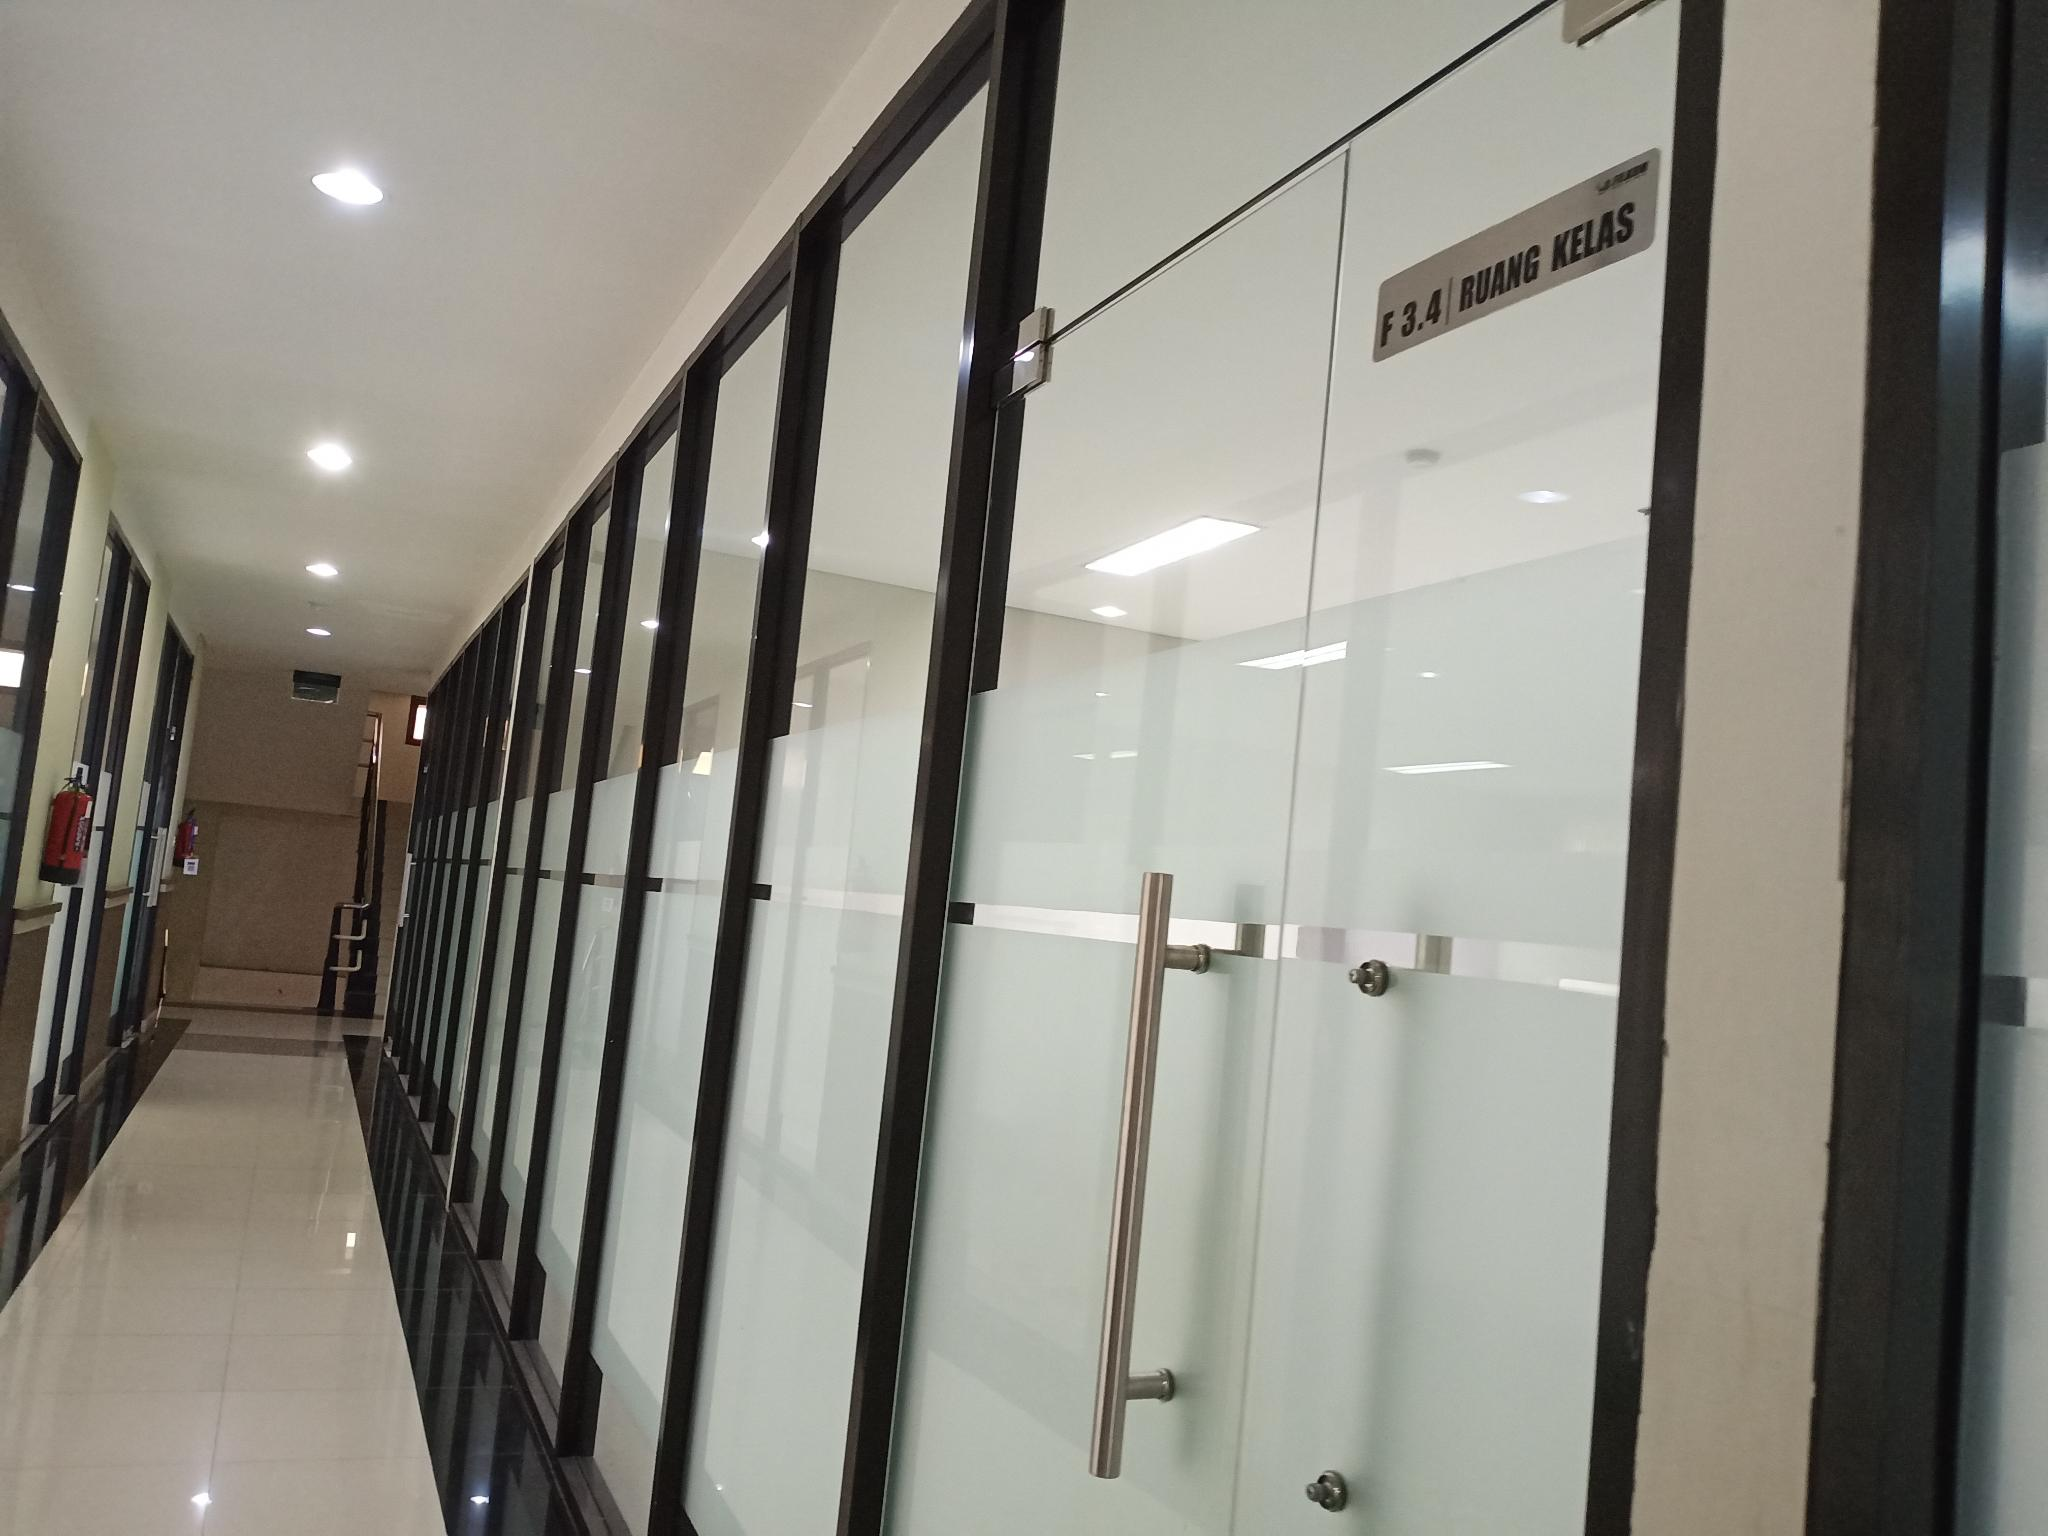plate: (1374, 145, 1661, 363)
